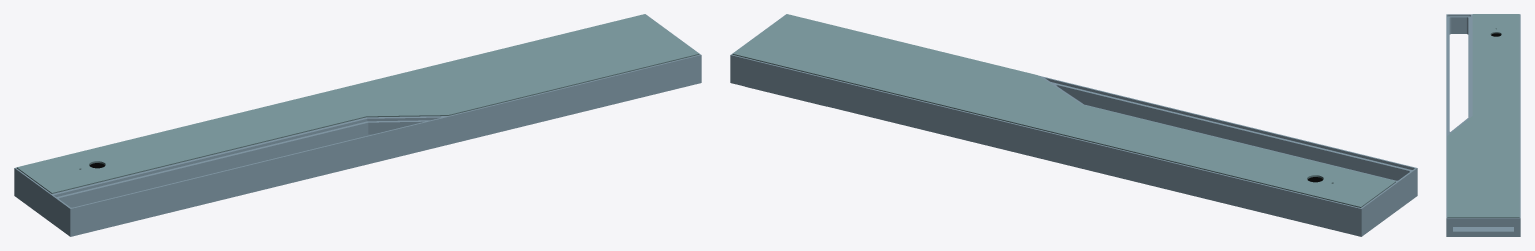
3 views of the same model, side by side, from view 1: azimuth 30°, elevation 25°; view 2: azimuth 150°, elevation 25°; view 3: azimuth 270°, elevation 25° (orthographic). The views are drawn at different scales.
Parts seen in each view (by area): view 1: $ColladaAutoName$_0; view 2: $ColladaAutoName$_0; view 3: $ColladaAutoName$_0.
Part boxes in pixels (x1,y1,x2,y2): $ColladaAutoName$_0: (14, 14, 701, 236); $ColladaAutoName$_0: (730, 14, 1417, 236); $ColladaAutoName$_0: (1446, 14, 1520, 236).
Bounding box in the file's own units: 0.13 × 0.00631 × 0.02.
